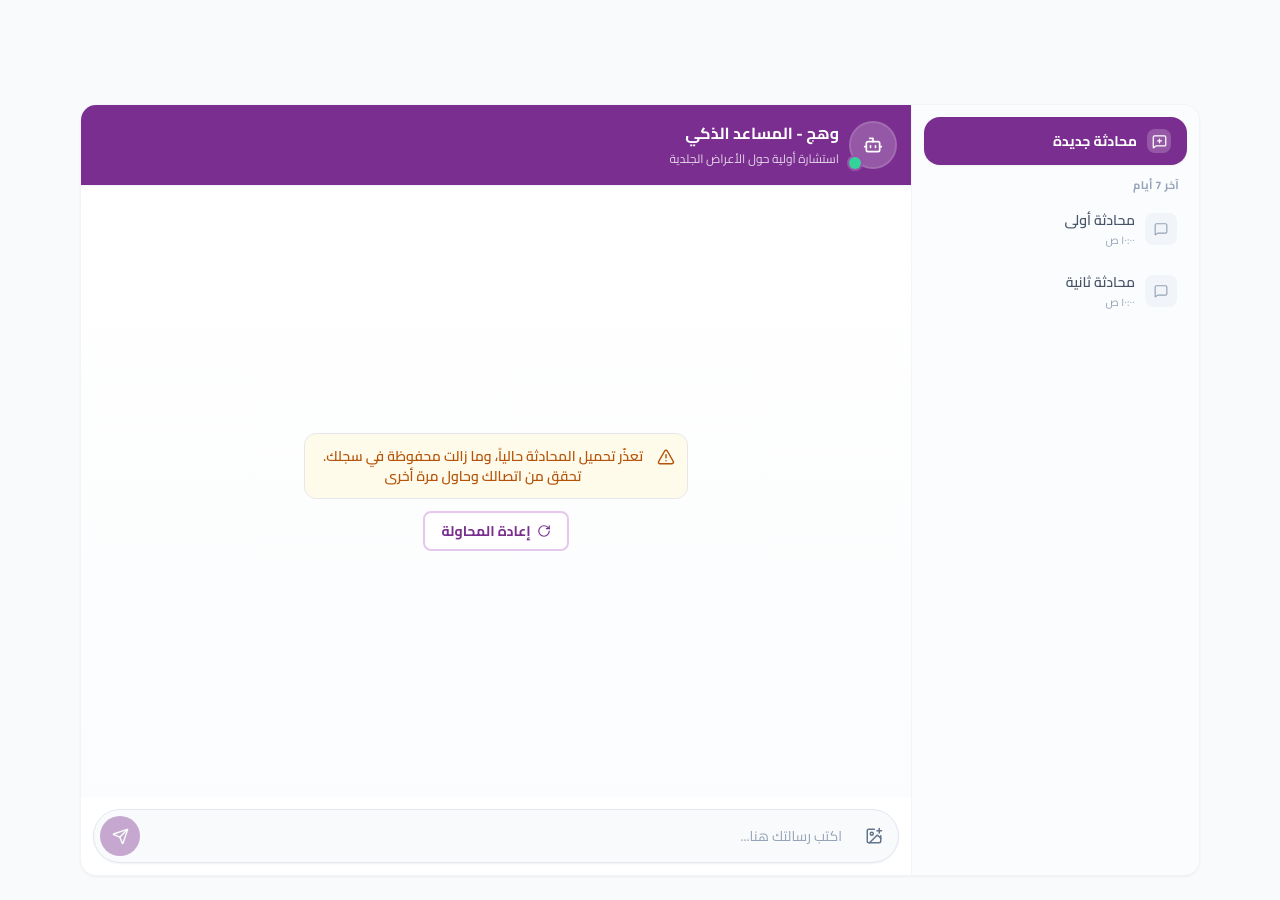
Test case: ChatPage conversation pointers (FE-04) › AC1: the retry button loads the conversation once the backend is back
This screenshot has width=1280, height=900.
Step 1. Click the button "إعادة المحاولة" → point(496, 530), box [423, 510, 569, 550]
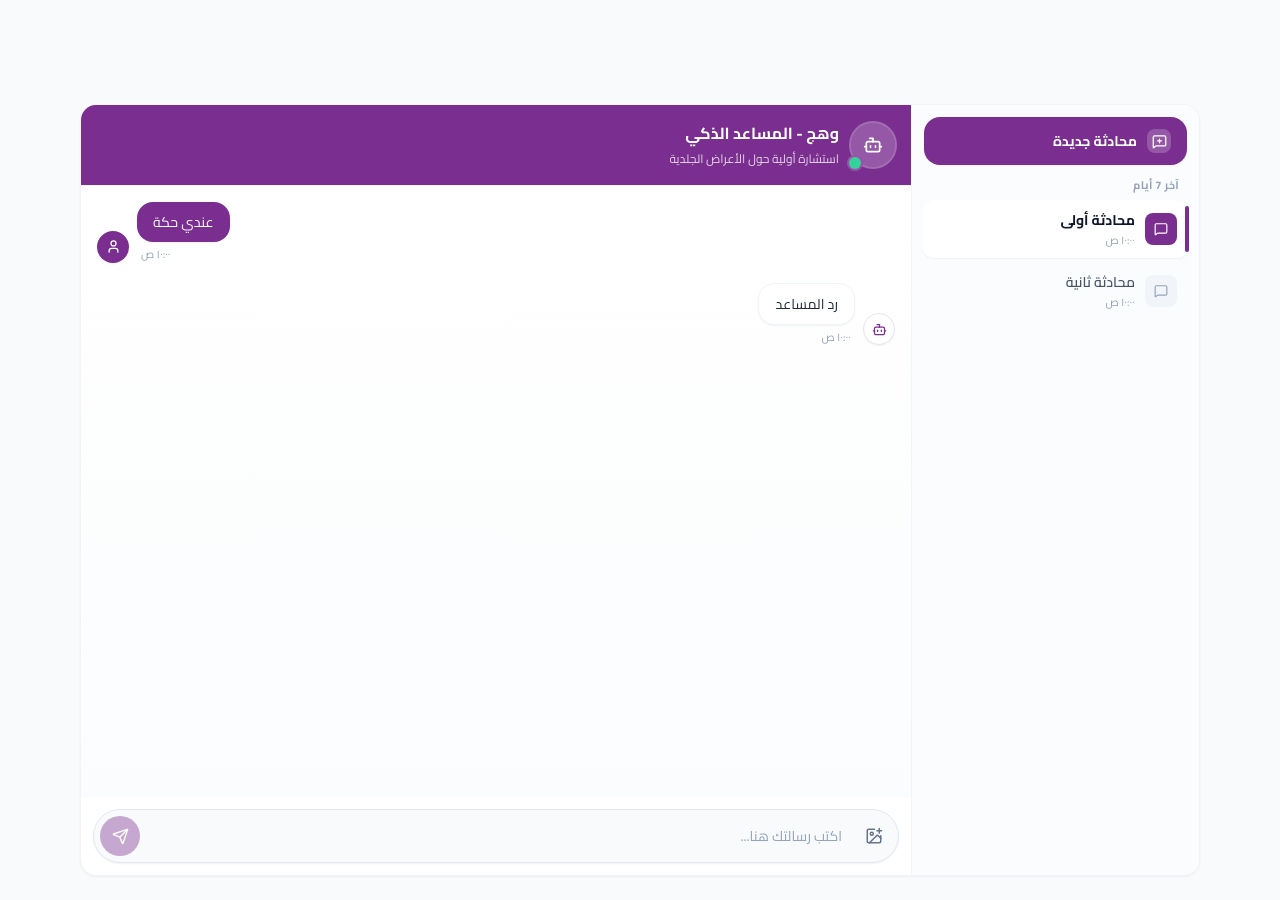
Check: the text "رد المساعد" is shown, box [776, 294, 838, 314]
Check: the button "إعادة المحاولة" is gone
